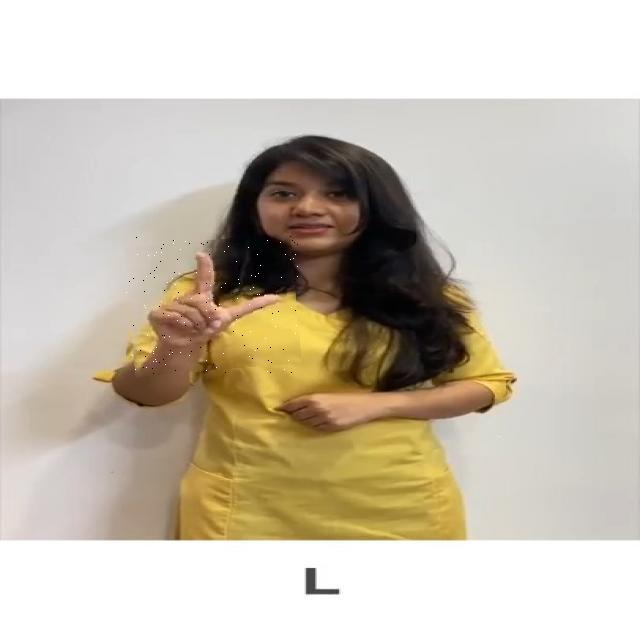L: (126, 236, 298, 374)
